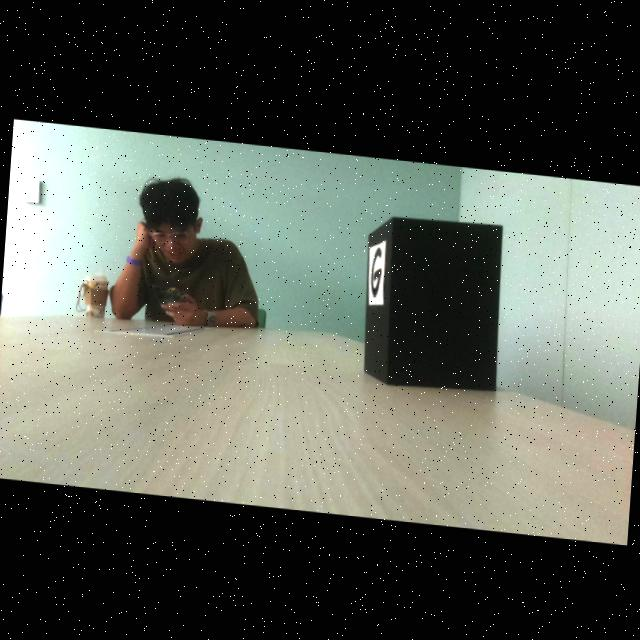G: (370, 245, 381, 293)
